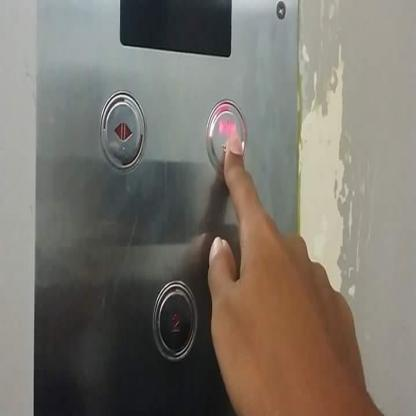2: (152, 278, 198, 363)
close: (205, 97, 247, 176)
open: (100, 89, 145, 168)
